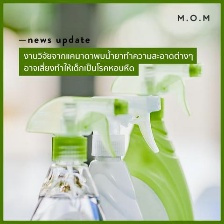cleaning_solution: (104, 57, 208, 224), (20, 92, 133, 224), (72, 90, 166, 224)
